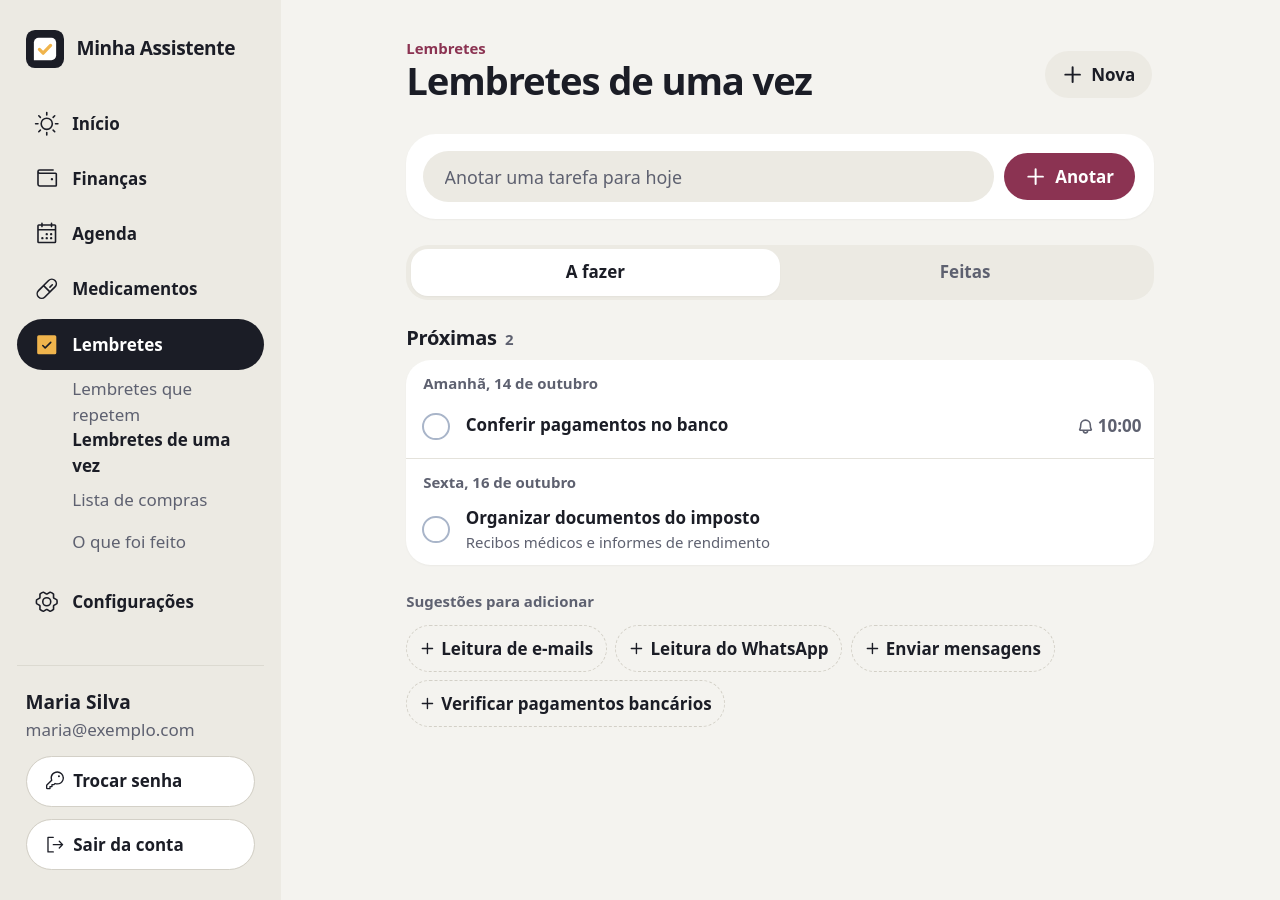
Scenario: Tarefas avulsas › anotar para hoje, marcar como feita e ver em "Feitas"
The width and height of the screenshot is (1280, 900).
Check: the element "Próximas" is shown, box [406,325,1154,565]
Type "Ler e-mails" into the field named "Nova tarefa para hoje" at coordinates (709, 177), box [423,151,994,202]
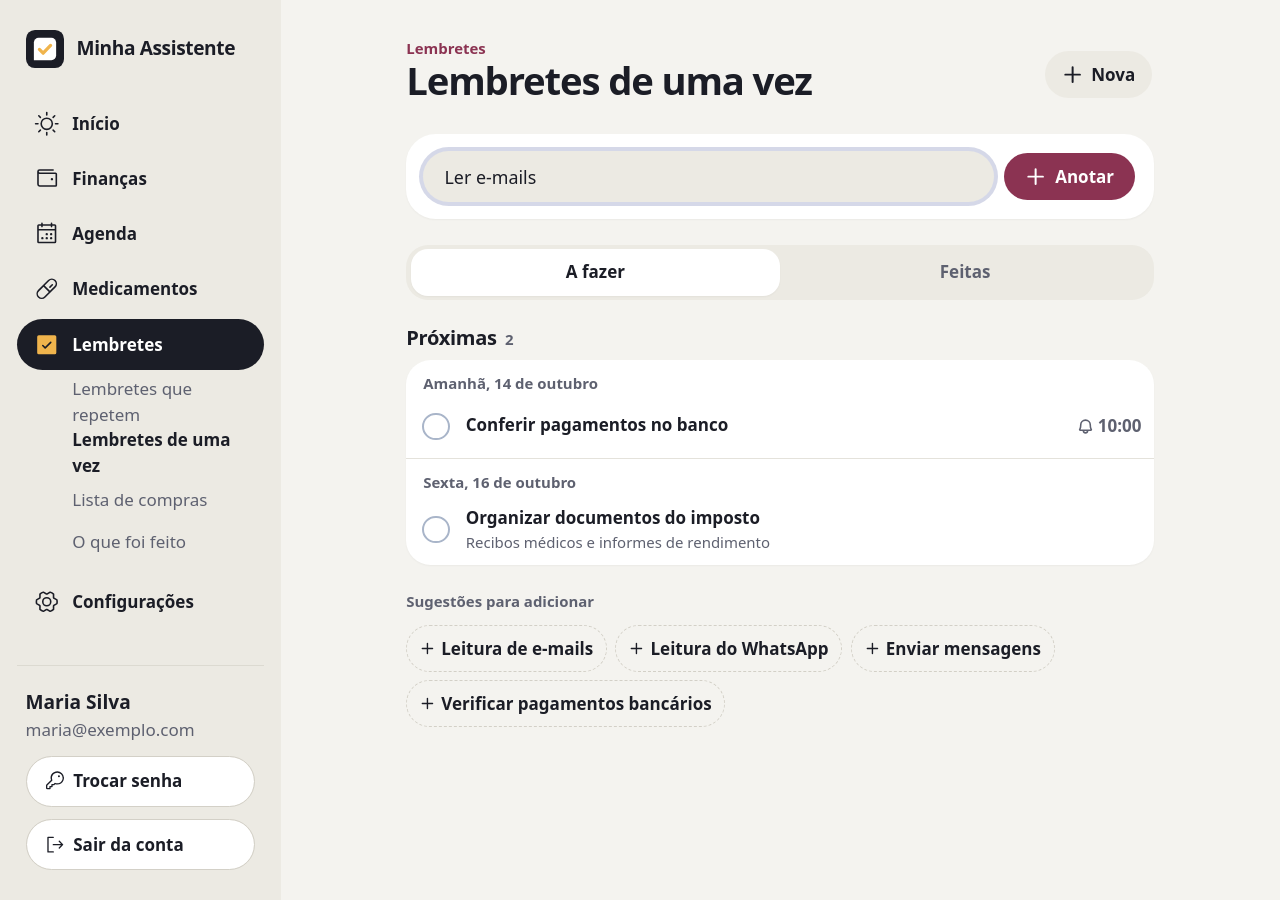
Click the button "Anotar" at coordinates (1070, 177), box [1002,151,1137,202]
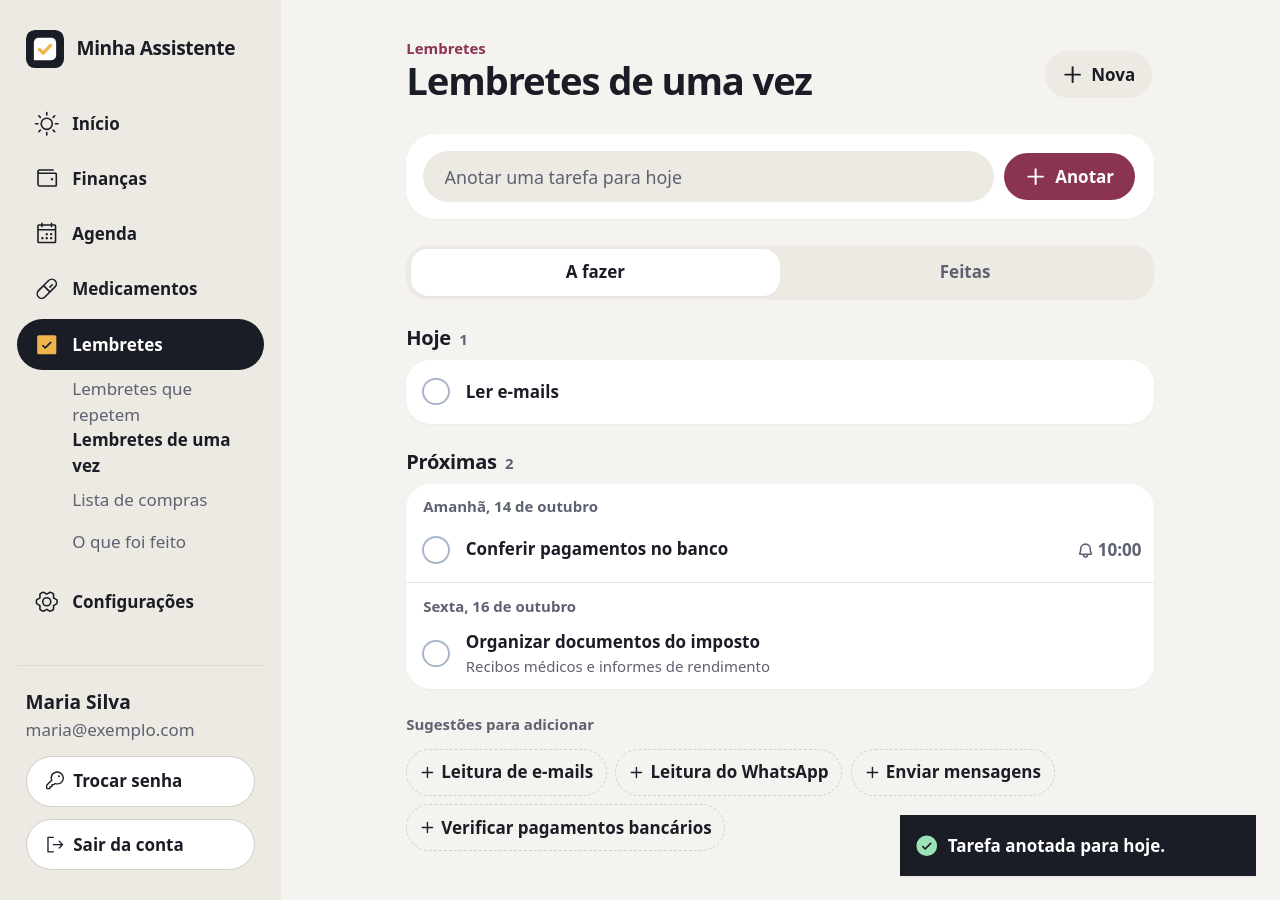
Check: the text "Ler e-mails" is shown, box [466,380,559,404]
Click the button named "Marcar Ler e-mails como feita" at coordinates (436, 392), box [410,366,462,417]
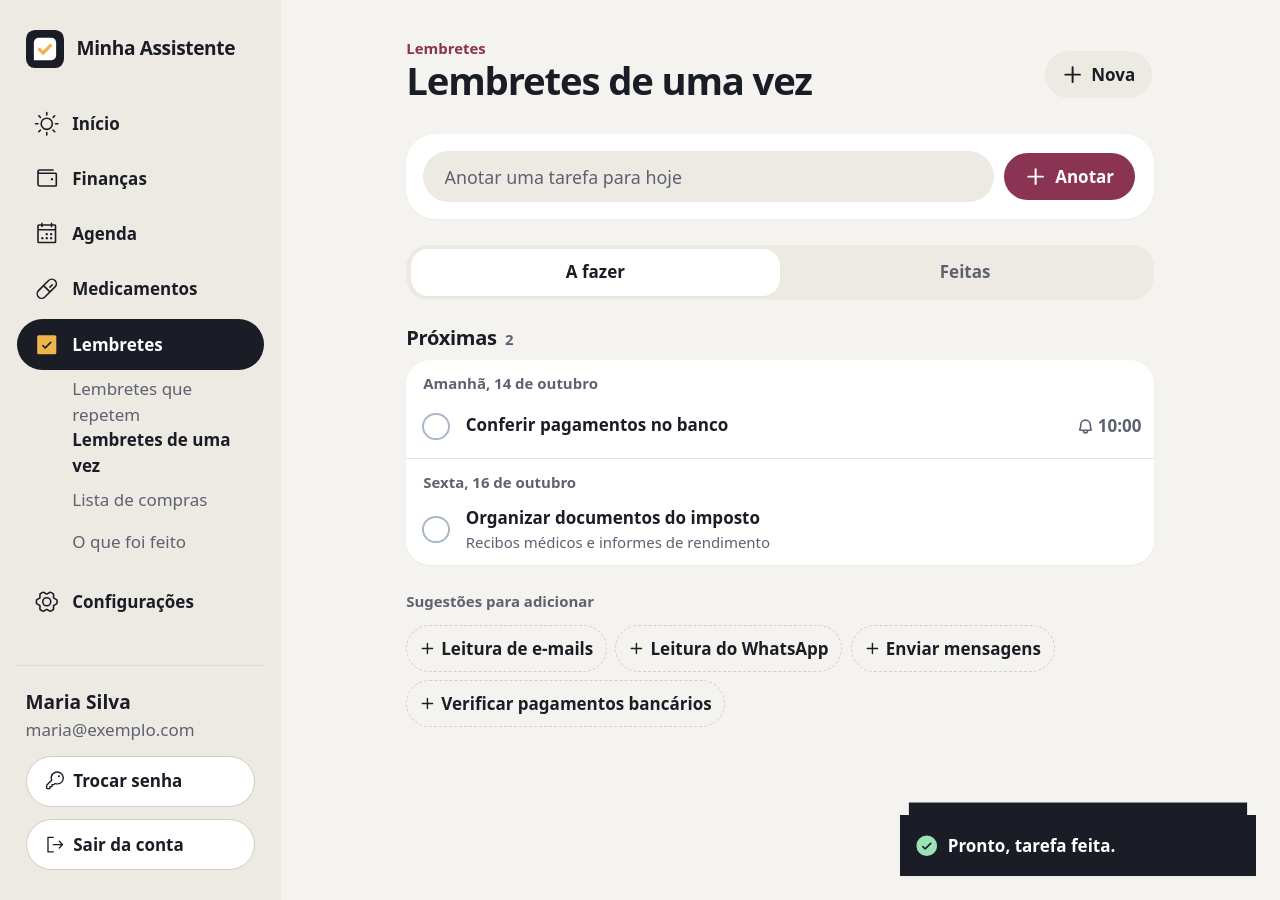
Check: the text "Pronto, tarefa feita." is shown, box [948,832,1115,858]
Click the radio button labelled "Feitas" at coordinates (965, 272), box [780,249,1150,296]
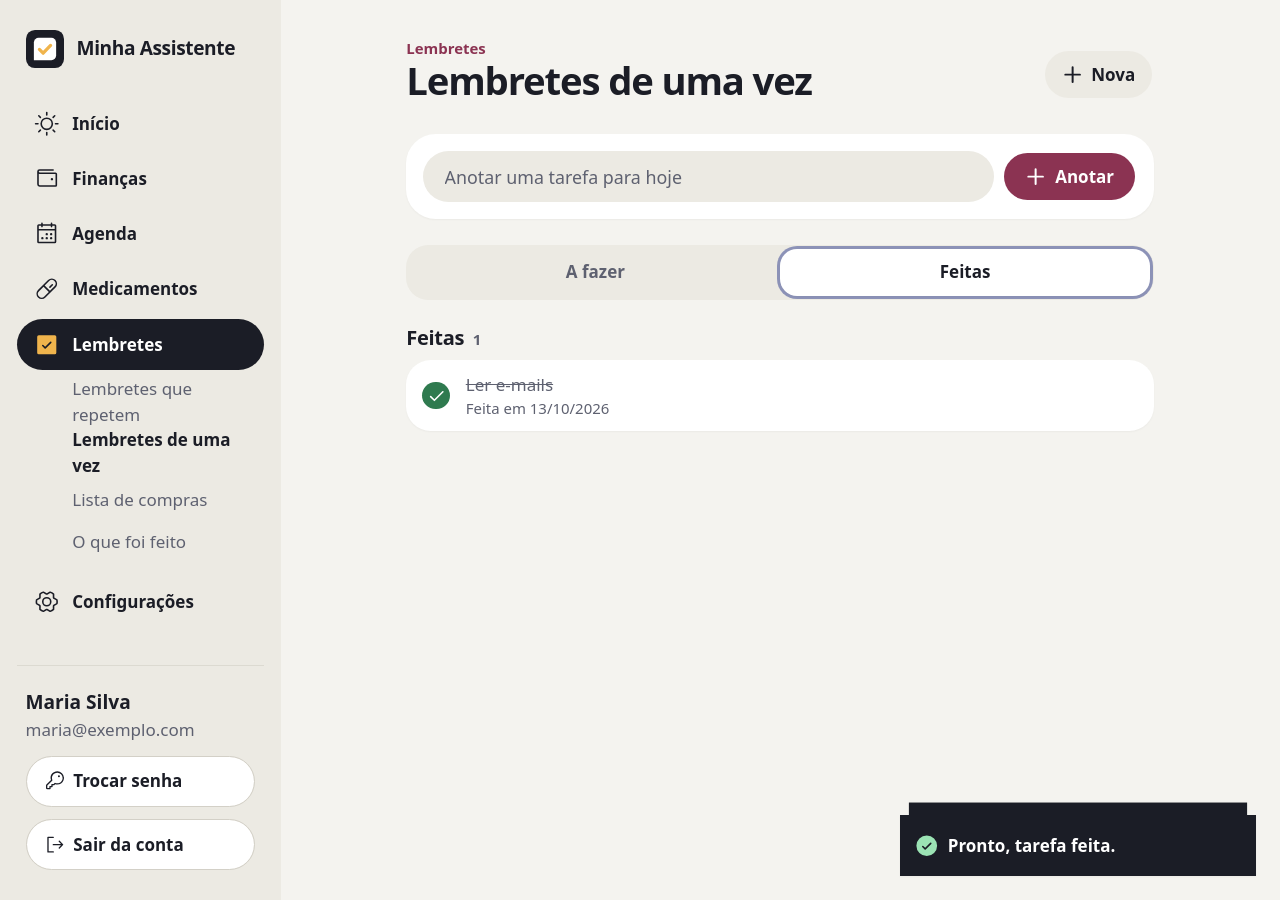
Check: the text "Ler e-mails" is shown, box [466,373,553,396]
Check: the text "Feita em 13/10/2026" is shown, box [466,398,609,418]
